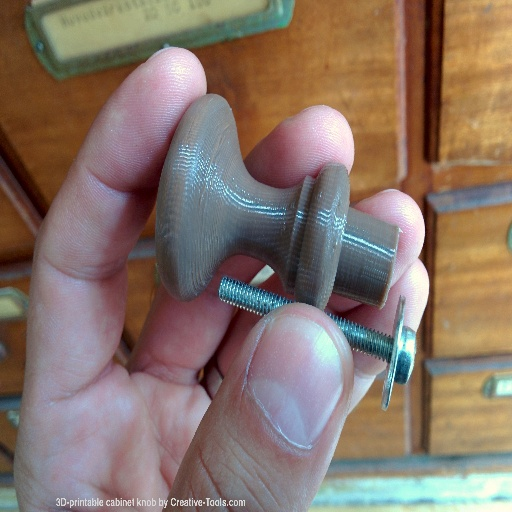hand: (80, 40, 404, 501)
